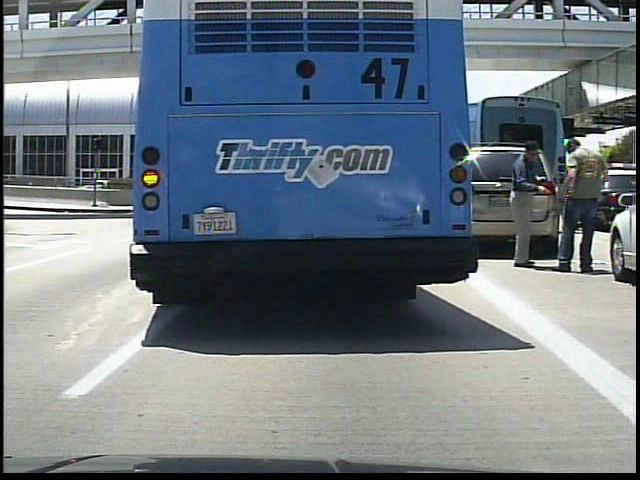person: (551, 122, 607, 282), (505, 132, 553, 269)
